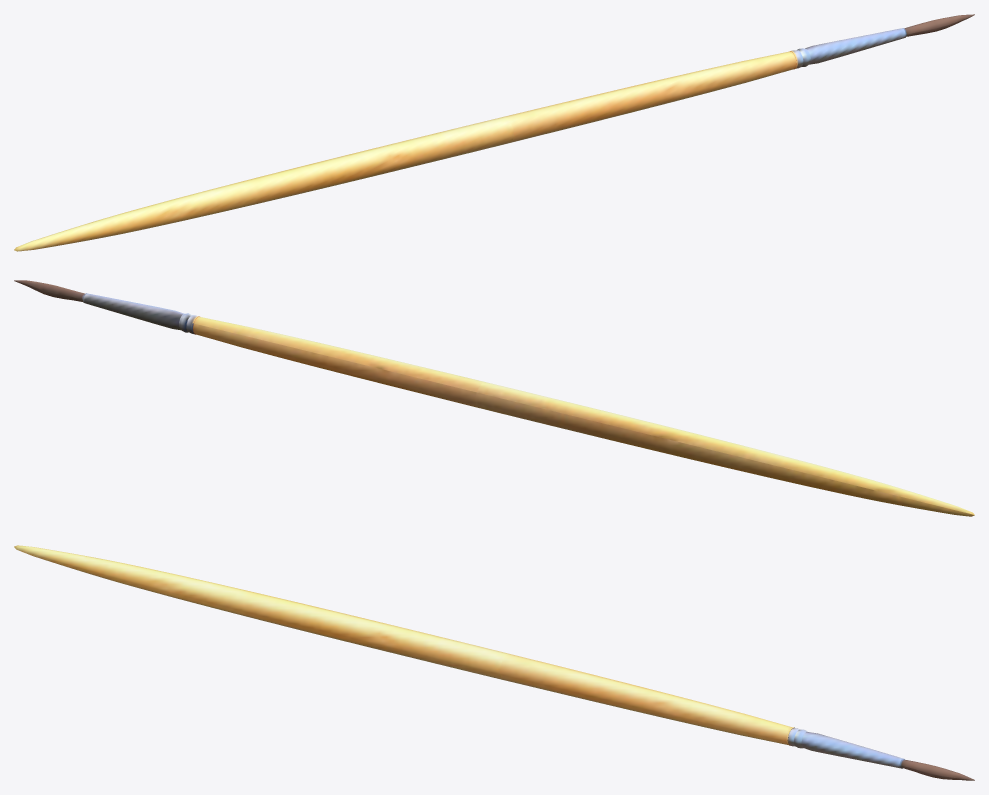
The model's file is brush.glb.
3 renders of one model, top to bottom at view 1: azimuth 30°, elevation 25°; view 2: azimuth 150°, elevation 25°; view 3: azimuth 330°, elevation 25°, orthographic.
Parts seen in each view (by area): view 1: brush; view 2: brush; view 3: brush.
Boxes of the visible parts, <box> form: brush: <box>14,14,974,251</box>; brush: <box>14,280,974,516</box>; brush: <box>14,545,974,780</box>.
Size of the model in its own units: 0.1408 by 0.00344 by 0.00346.
Materials: 1 (1 with a texture image).
